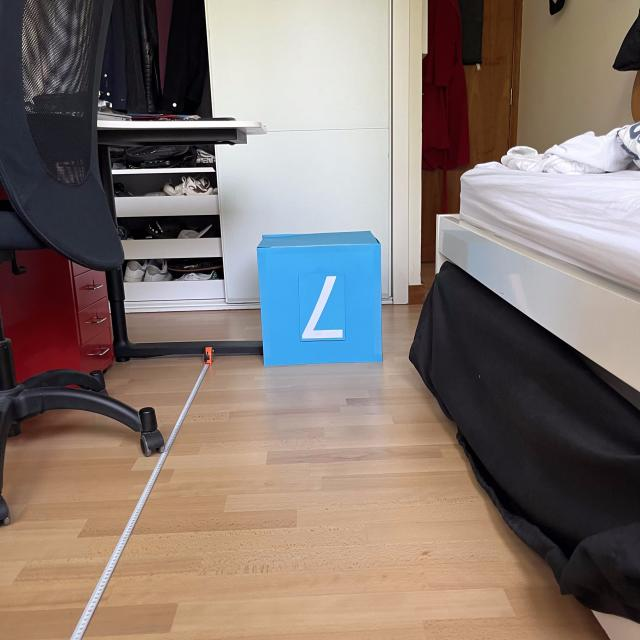box: (252, 226, 386, 368)
